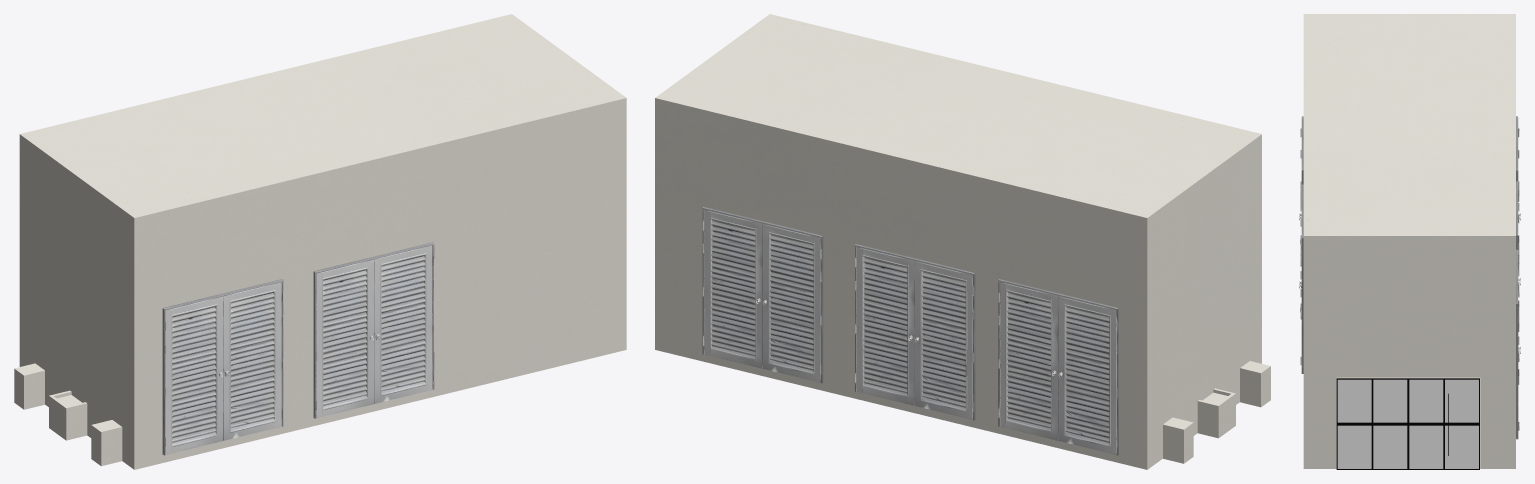
Rendered from SIDE SHOP.fbx.
The picture shows the model from 3 angles, left to right: view 1: azimuth 30°, elevation 25°; view 2: azimuth 150°, elevation 25°; view 3: azimuth 270°, elevation 25°; orthographic projection. The views are drawn at different scales.
Visible parts, largest first — view 1: pCube1, model, model1, pCube6, pCube5, pCube4; view 2: pCube1, model5, model3, model4, pCube6, pCube4, pCube5; view 3: pCube1, Translucent_Glass_Blue-material, dust_2-material, model5, model1, _1-material, model4, model, model3.
Part boxes in pixels (x1,y1,x2,y2): pCube1: (19, 14, 626, 469); model: (162, 279, 283, 455); model1: (313, 242, 434, 418); pCube6: (49, 390, 87, 440); pCube5: (91, 420, 122, 466); pCube4: (14, 363, 44, 409); pCube1: (655, 14, 1261, 469); model5: (702, 207, 823, 383); model3: (998, 279, 1118, 455); model4: (855, 244, 975, 420); pCube6: (1197, 388, 1235, 438); pCube4: (1163, 417, 1193, 463); pCube5: (1240, 361, 1270, 407); pCube1: (1303, 14, 1515, 468); Translucent_Glass_Blue-material: (1337, 379, 1478, 468); dust_2-material: (1336, 378, 1479, 469); model5: (1516, 249, 1520, 439); model1: (1299, 184, 1303, 373); _1-material: (1337, 422, 1478, 425); model4: (1516, 181, 1520, 361); model: (1299, 116, 1303, 297); model3: (1516, 116, 1520, 297).
Bounding box in the file's own units: 24.02 × 11.15 × 9.61.
